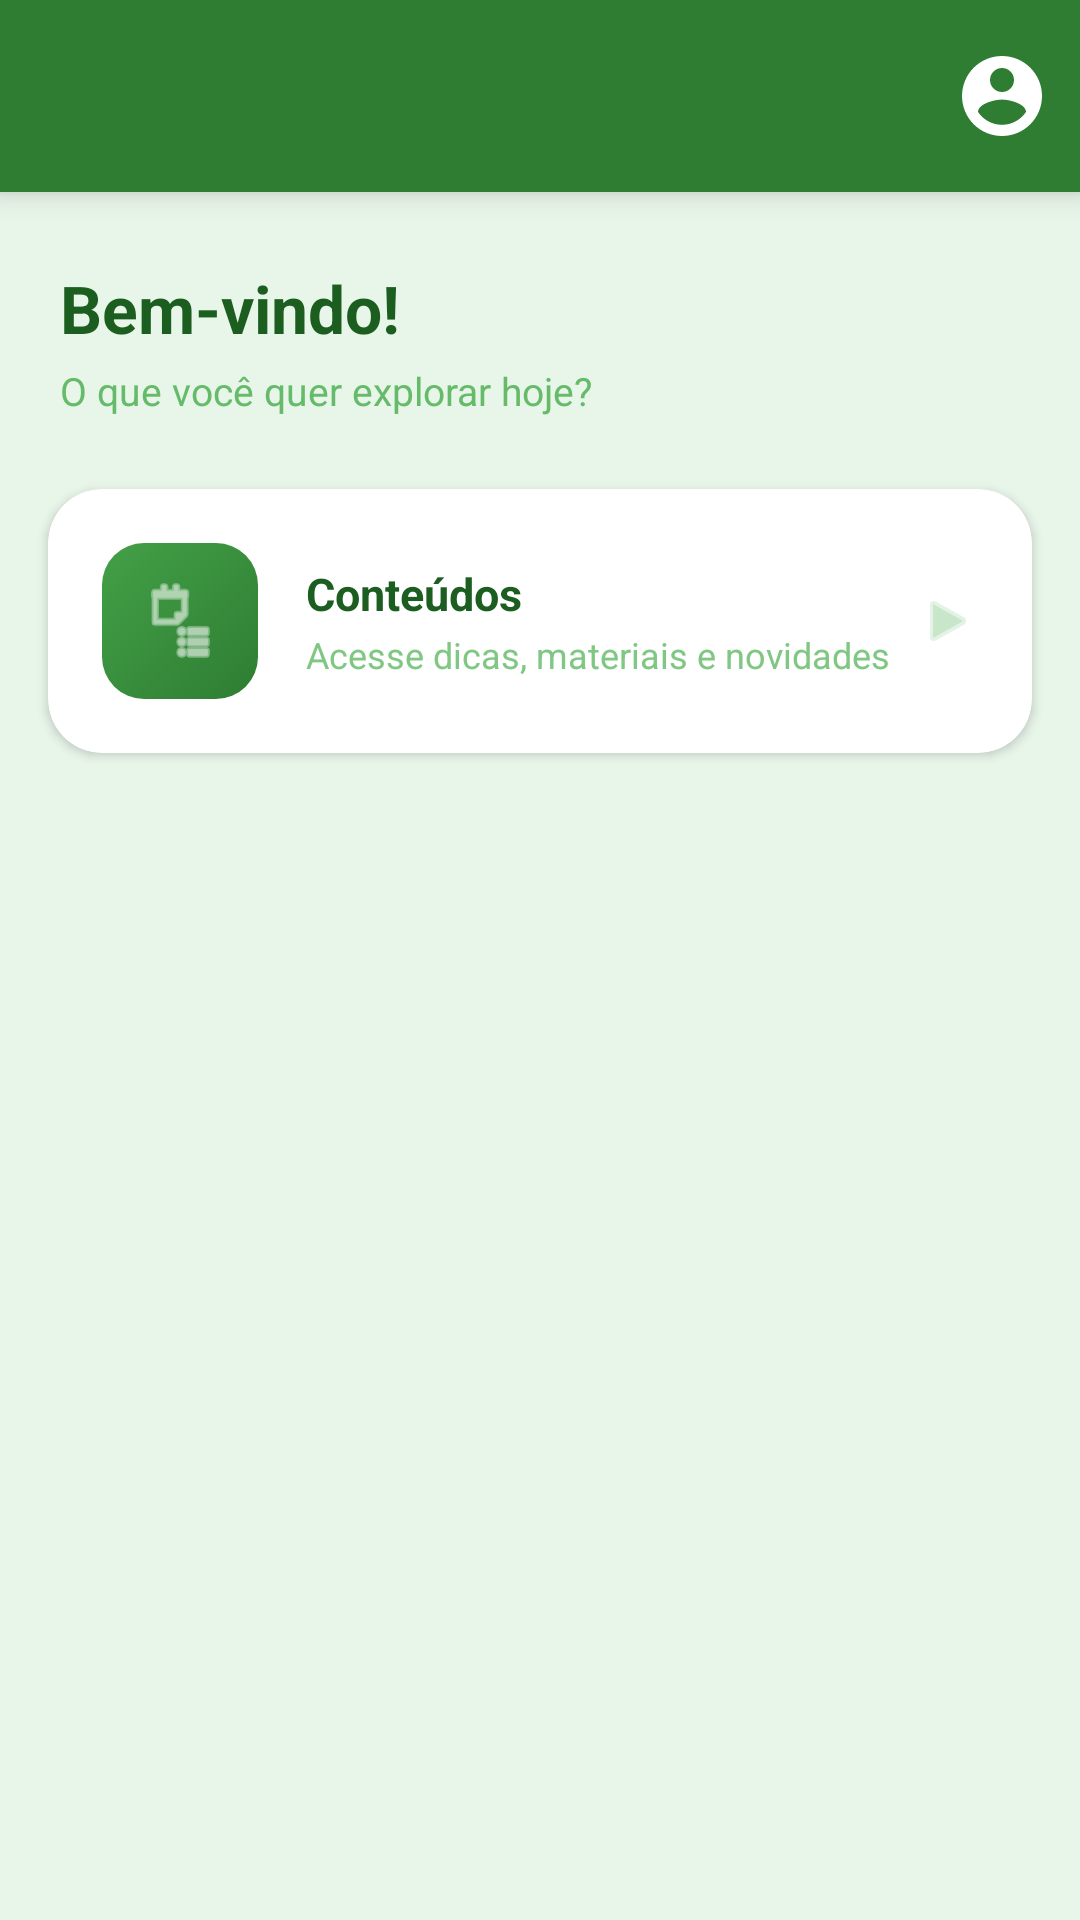

Screen size 1080 × 1920. Icon name, then its box in pixels as bbox=[x1, y1, x2, y2]:
agenda: bbox=[151, 583, 210, 658]
Minha conta: bbox=[962, 56, 1042, 136]
play: bbox=[930, 601, 966, 641]
